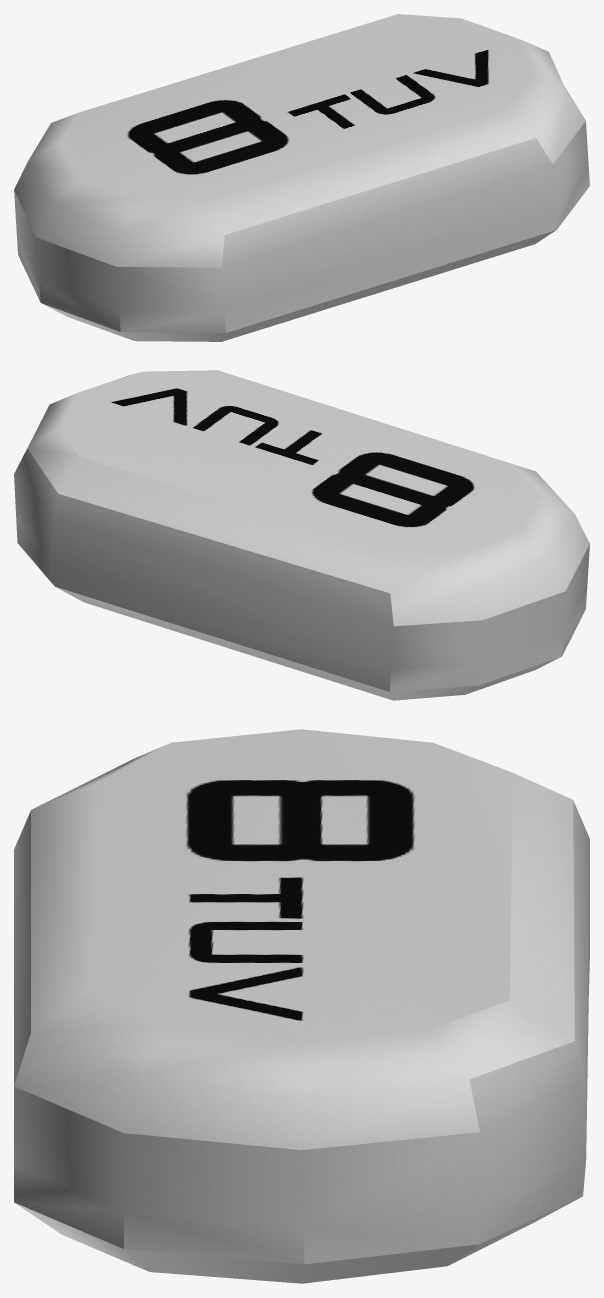
The model's file is tuv8_button.glb.
The picture shows the model from 3 angles, top to bottom: view 1: azimuth 30°, elevation 25°; view 2: azimuth 150°, elevation 25°; view 3: azimuth 270°, elevation 25°; orthographic projection. The views are drawn at different scales.
Parts seen in each view (by area): view 1: tuv8_button; view 2: tuv8_button; view 3: tuv8_button.
Boxes of the visible parts, <box> form: tuv8_button: <box>14,14,589,341</box>; tuv8_button: <box>14,370,589,700</box>; tuv8_button: <box>14,729,589,1283</box>.
Size of the model in its own units: 0.00277 by 0.000842 by 0.00156.
Materials: 1 (1 with a texture image).
